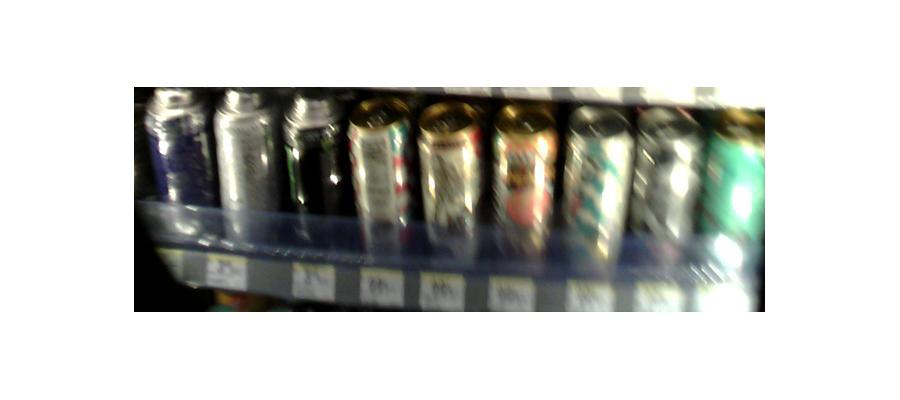bottle: (562, 107, 632, 305), (634, 110, 702, 298), (698, 116, 763, 296), (139, 88, 211, 246), (215, 93, 284, 246), (346, 103, 412, 257), (417, 106, 481, 260), (491, 106, 553, 262), (282, 96, 343, 241)
